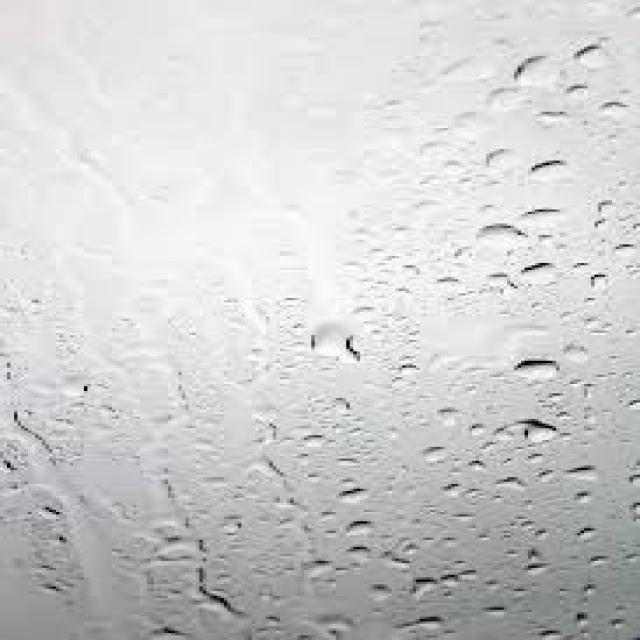raindrop: (300, 316, 378, 376), (496, 46, 570, 94), (558, 36, 632, 78), (498, 412, 571, 452), (506, 354, 578, 388), (523, 148, 586, 186), (396, 570, 454, 610), (473, 218, 533, 254), (518, 254, 574, 292), (406, 610, 472, 640), (566, 459, 622, 492), (568, 519, 618, 553), (330, 480, 388, 508), (512, 200, 573, 226), (334, 514, 384, 544)
